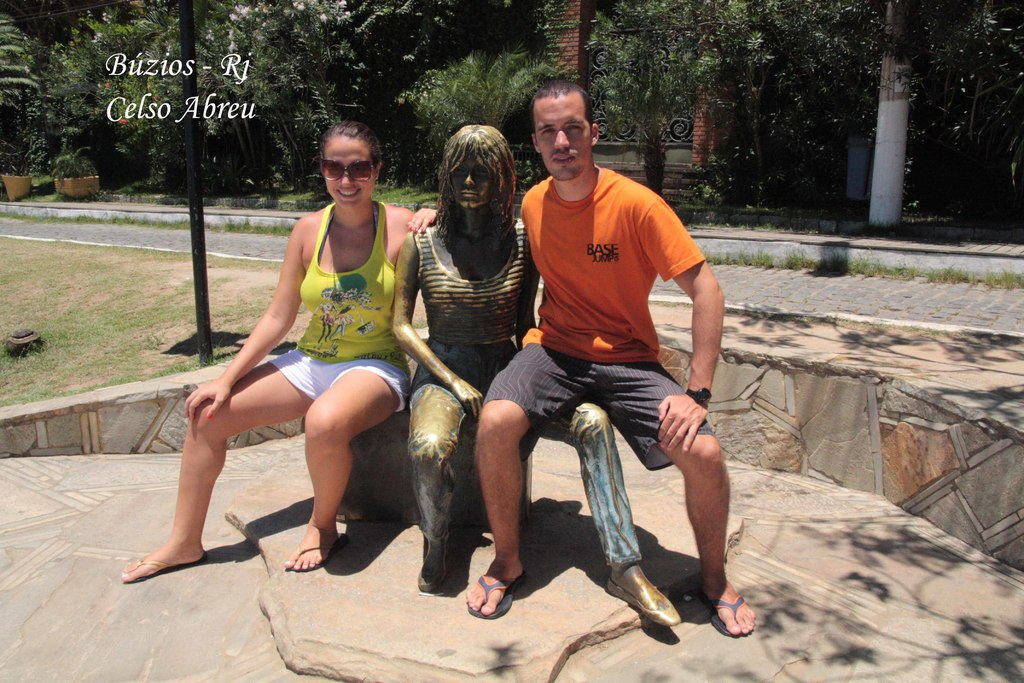Footwear: (607, 569, 680, 634), (462, 565, 529, 623), (697, 578, 758, 639), (118, 554, 206, 584), (415, 531, 452, 597), (285, 532, 344, 572)
